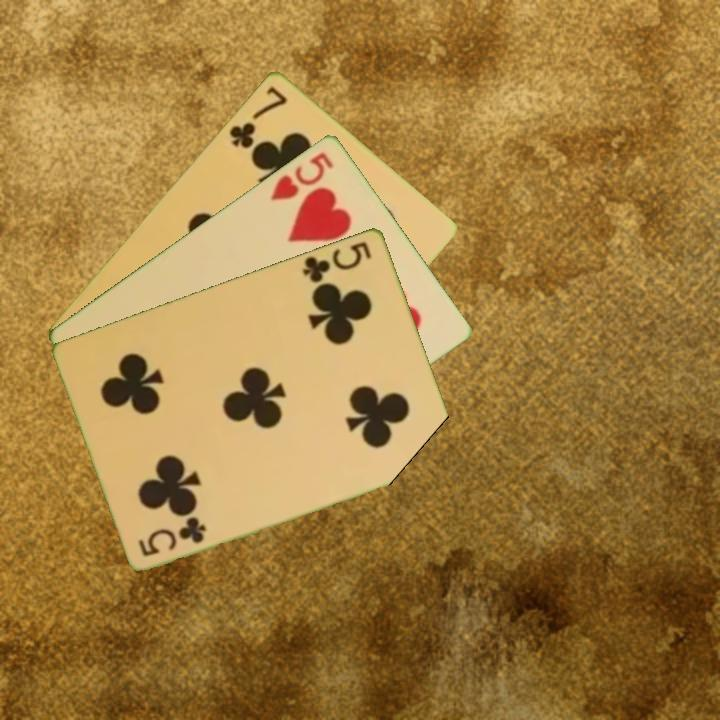5c: (298, 237, 375, 286), (134, 514, 209, 559)
5h: (266, 147, 337, 203)
7c: (225, 82, 290, 151)
